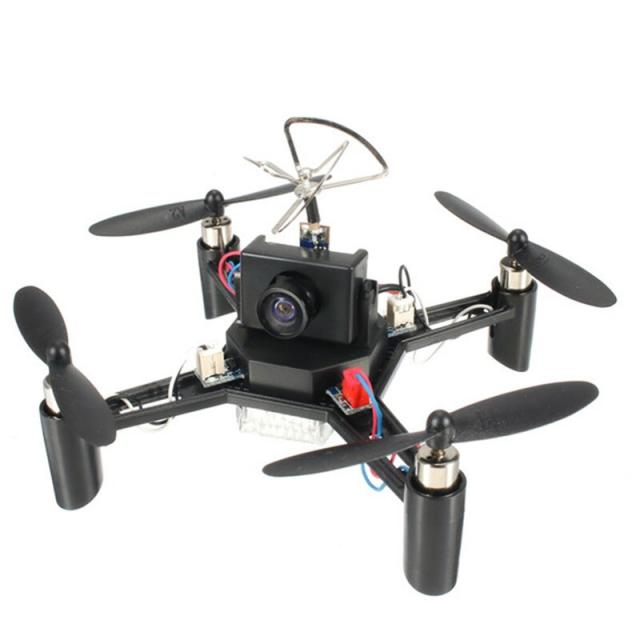drone: (12, 116, 638, 599)
